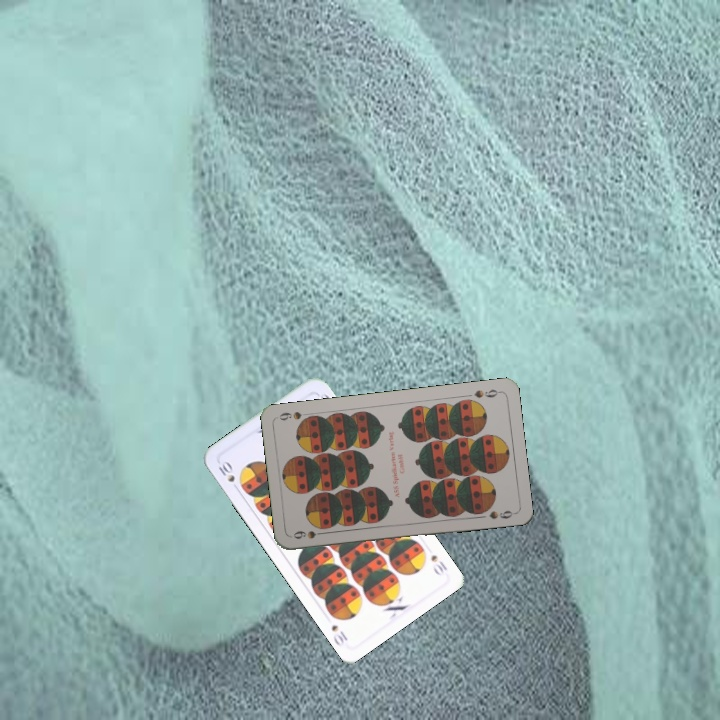S10: (213, 457, 242, 494), (427, 551, 450, 575)
S9: (289, 527, 329, 542), (470, 385, 503, 401)
